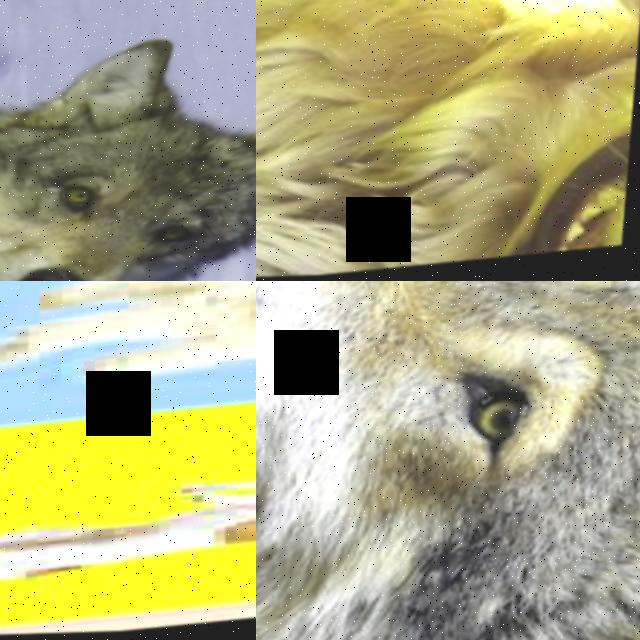dog: (256, 0, 640, 281), (0, 415, 256, 612), (0, 281, 256, 405)
wolf: (256, 281, 640, 640), (0, 0, 256, 281)
